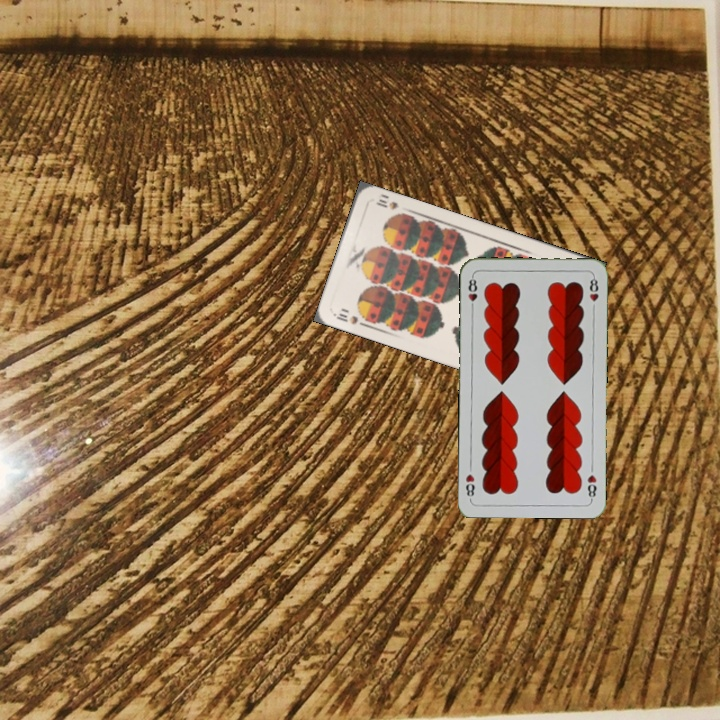H8: (464, 272, 480, 313), (583, 471, 599, 502)
S10: (330, 309, 370, 330)
